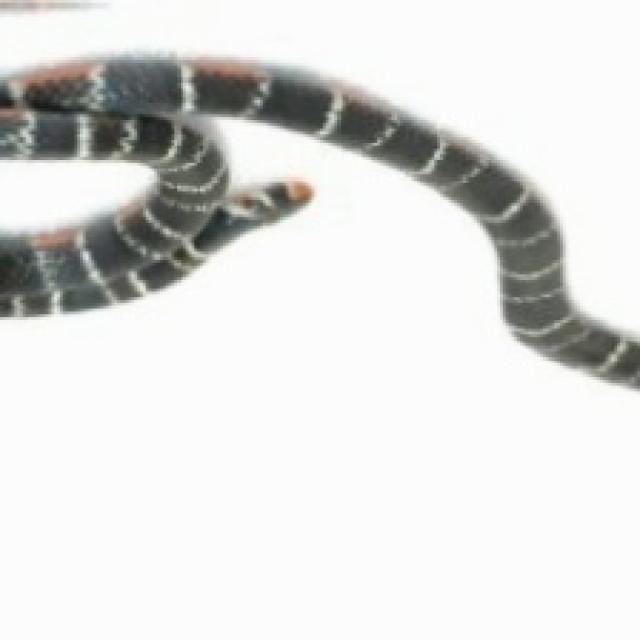barredcoral snake: (0, 57, 637, 386)
